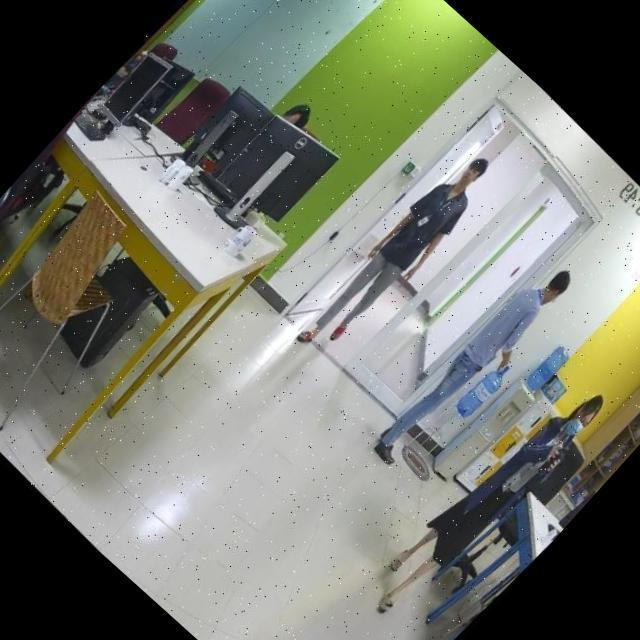person: (356, 364, 614, 639), (284, 137, 508, 375), (366, 252, 578, 479)
